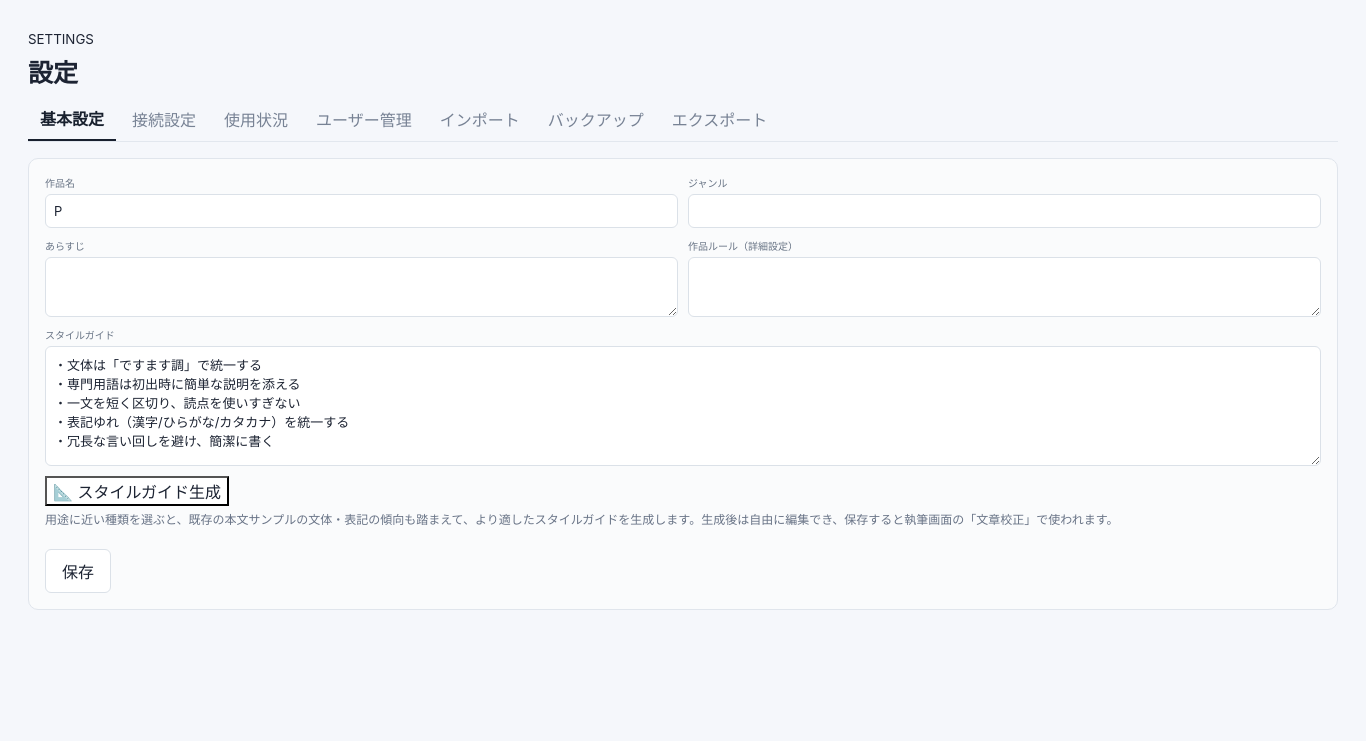
SettingsPanel AI provider section › loads the current provider and shows it selected
The width and height of the screenshot is (1366, 741).
Click the button "接続設定". click: (164, 119)
box: [120, 97, 208, 141]
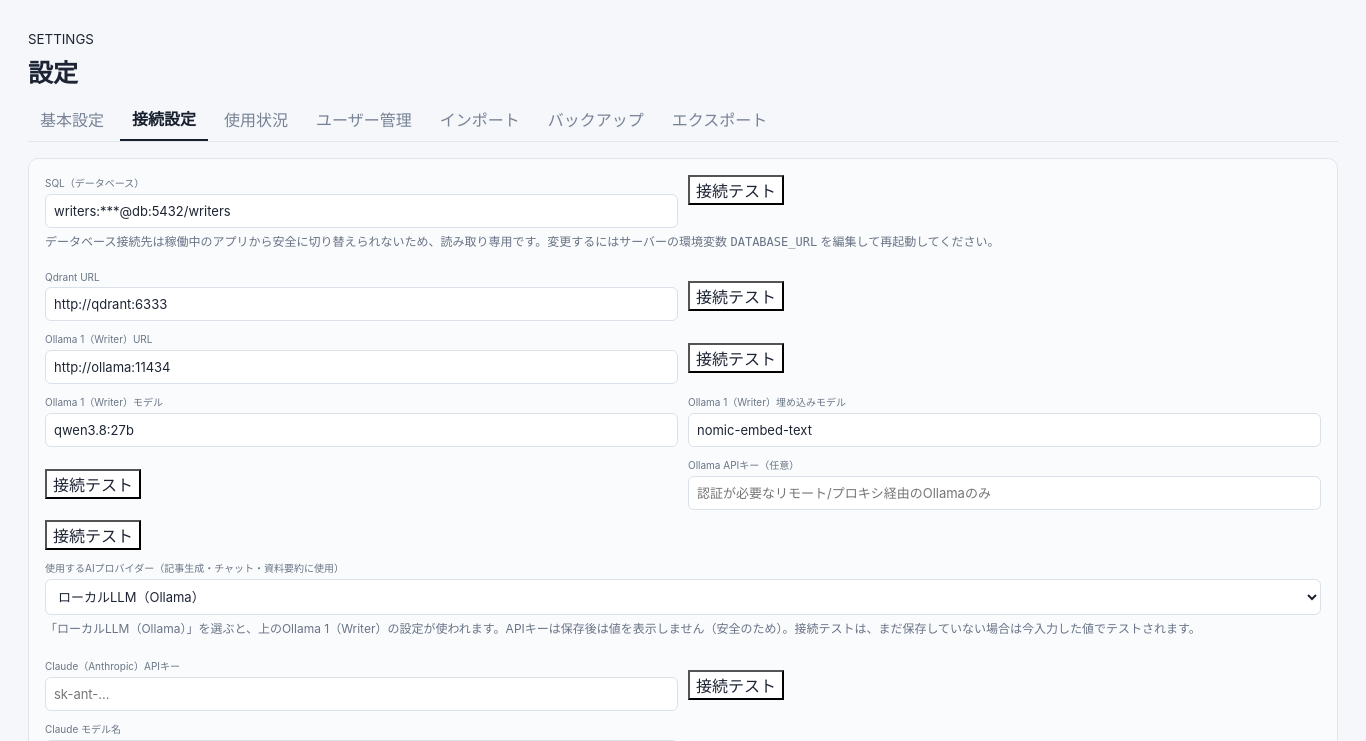
Now the text "使用するAIプロバイダー（記事生成・チャット・資料要約に使用）" is shown, box [45, 560, 1321, 615]
Now the dropdown labelled "使用するAIプロバイダー（記事生成・チャット・資料要約に使用）" shows "ローカルLLM（Ollama）", box [45, 579, 1321, 615]
